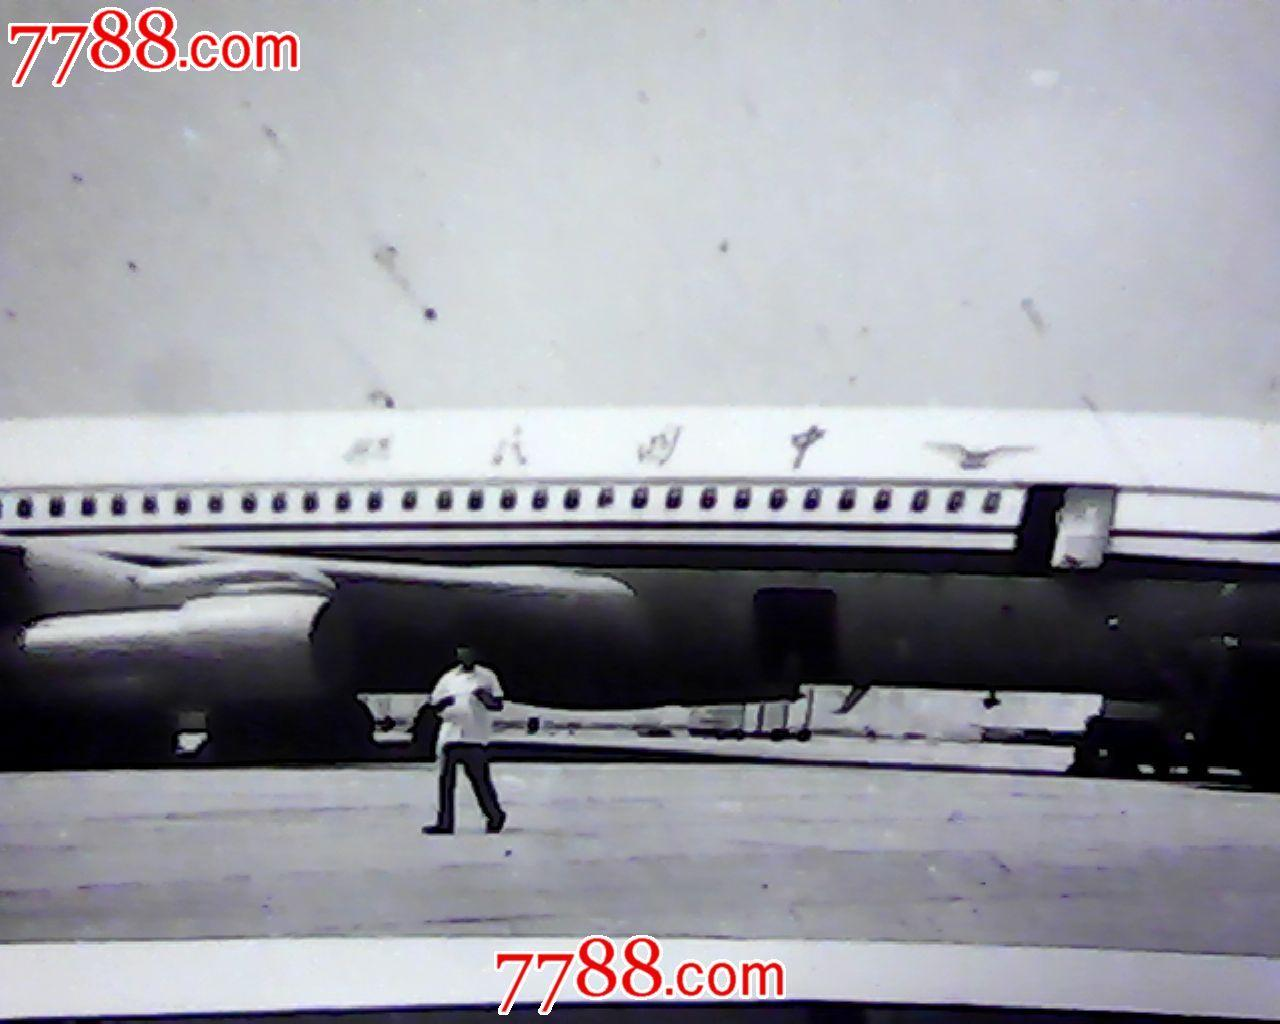airplane: (1, 385, 1280, 735)
